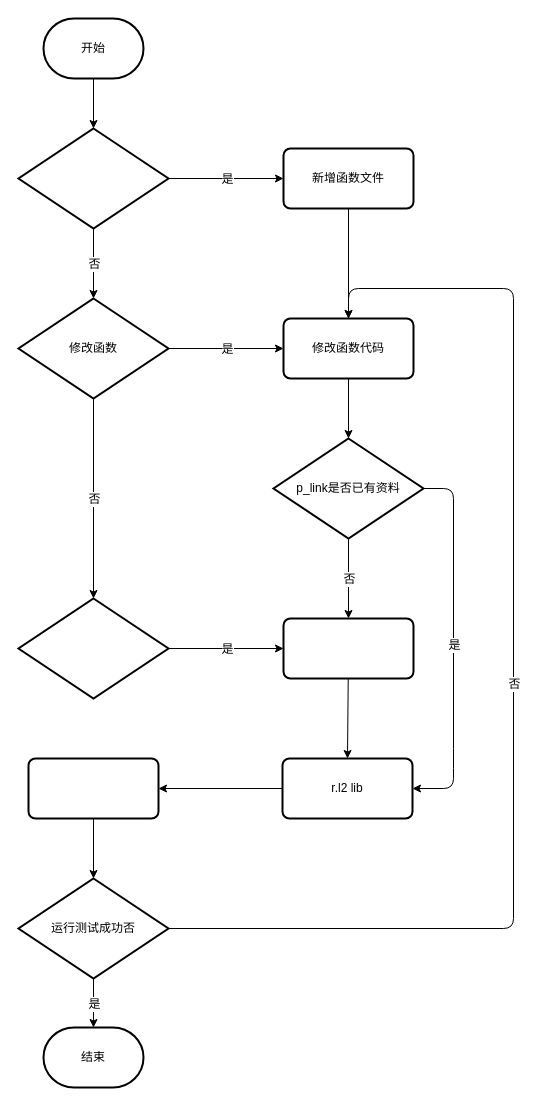
The diagram is 539 pixels wide and 1105 high, and some of its shapes have lost their labels. Here are the shapes that lost their labels. From the top down, the box of each, then its label:
(17, 127, 169, 229): 新增函数
(17, 597, 169, 699): 删除函数
(282, 617, 414, 679): 修改p_link中lib的资料
(27, 757, 159, 819): 链接用到函数的主程序
